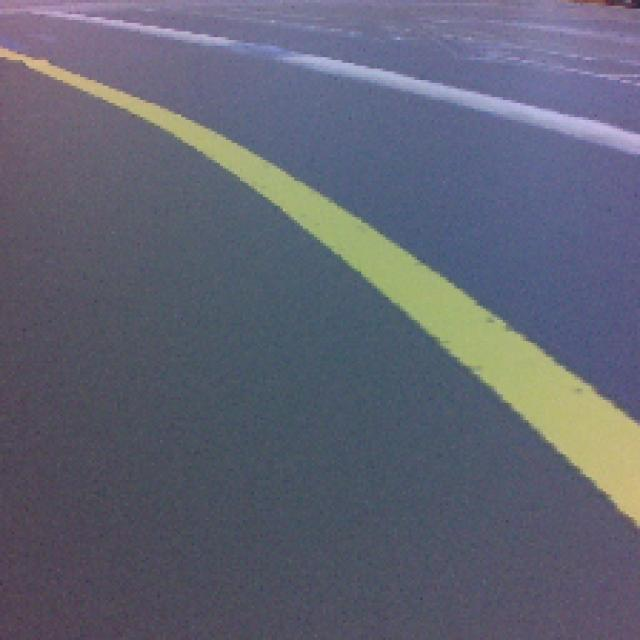Road: (1, 392, 640, 640)
